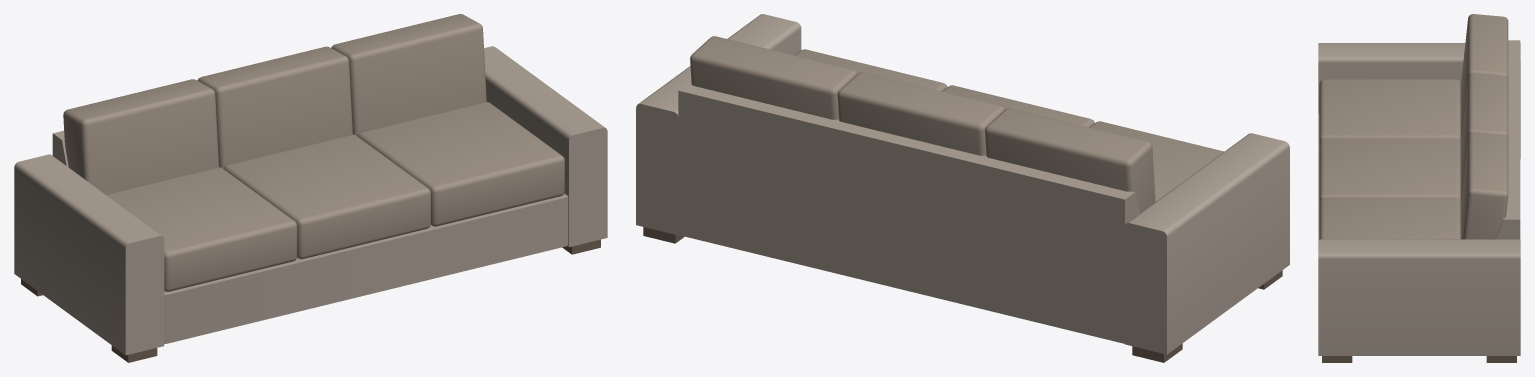
Rendered from Sofa2_C2.fbx.
3 renders of one model, left to right at view 1: azimuth 30°, elevation 25°; view 2: azimuth 150°, elevation 25°; view 3: azimuth 270°, elevation 25°, orthographic. The views are drawn at different scales.
Parts seen in each view (by area): view 1: Sofa2_C2; view 2: Sofa2_C2; view 3: Sofa2_C2.
Boxes of the visible parts, box(x1,y1,x2,y2) form: Sofa2_C2: box(14, 14, 607, 362); Sofa2_C2: box(636, 14, 1289, 362); Sofa2_C2: box(1318, 14, 1520, 362).
Size of the model in its own units: 250 by 85.61 by 100.
